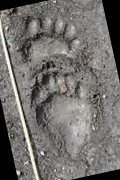rat: (56, 83, 76, 117)
